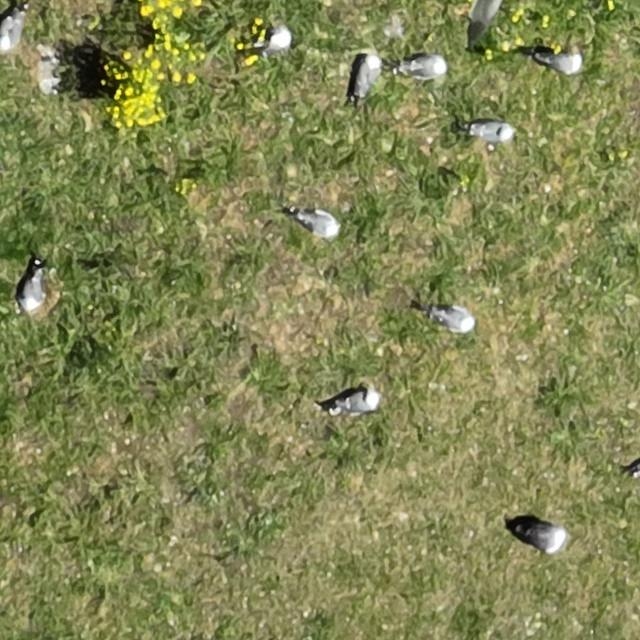umineko: (521, 526, 567, 552), (298, 213, 338, 237), (336, 391, 377, 414), (405, 54, 447, 76), (21, 272, 44, 312), (541, 53, 581, 73), (438, 308, 474, 330), (357, 58, 379, 94), (471, 122, 510, 142), (2, 16, 22, 50), (264, 27, 292, 50)
